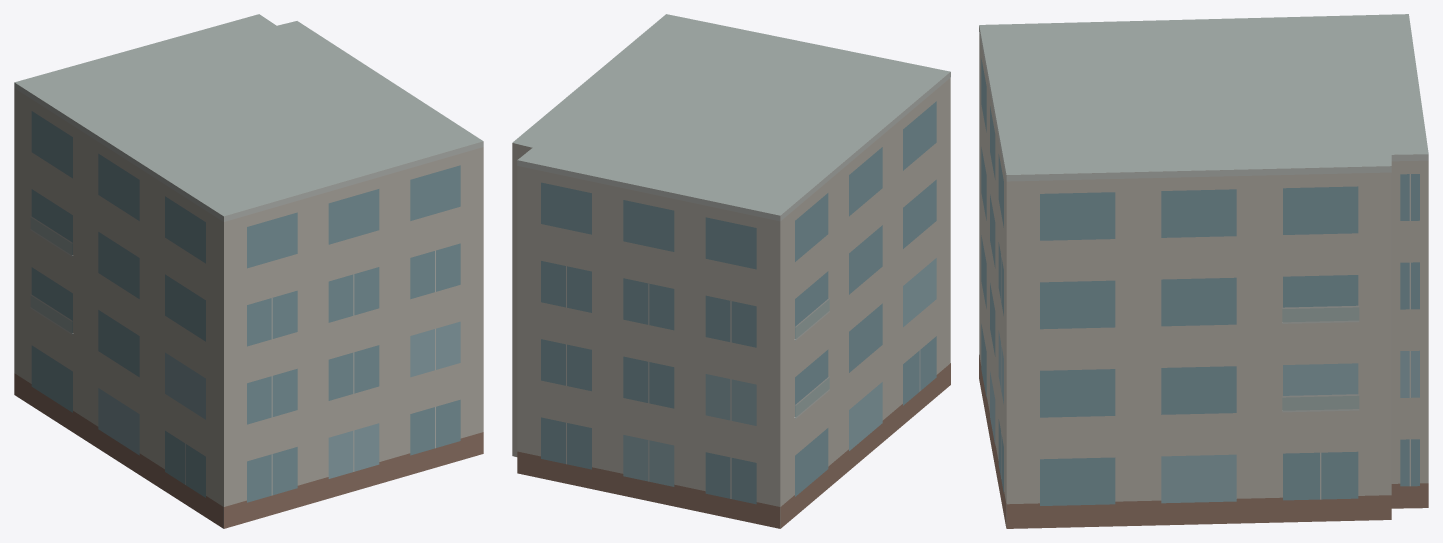
Rendered from survey-upis-32724948.glb.
The picture shows the model from 3 angles, left to right: view 1: azimuth 30°, elevation 25°; view 2: azimuth 150°, elevation 25°; view 3: azimuth 270°, elevation 25°; orthographic projection. The views are drawn at different scales.
Parts seen in each view (by area): view 1: survey-upis-32724948.tmp; view 2: survey-upis-32724948.tmp; view 3: survey-upis-32724948.tmp.
Boxes of the visible parts, x1,y1,x2,y2 form: survey-upis-32724948.tmp: [14, 14, 483, 528]; survey-upis-32724948.tmp: [512, 14, 950, 528]; survey-upis-32724948.tmp: [979, 14, 1428, 528].
Bounding box in the file's own units: 13.07 × 13.38 × 15.42.
